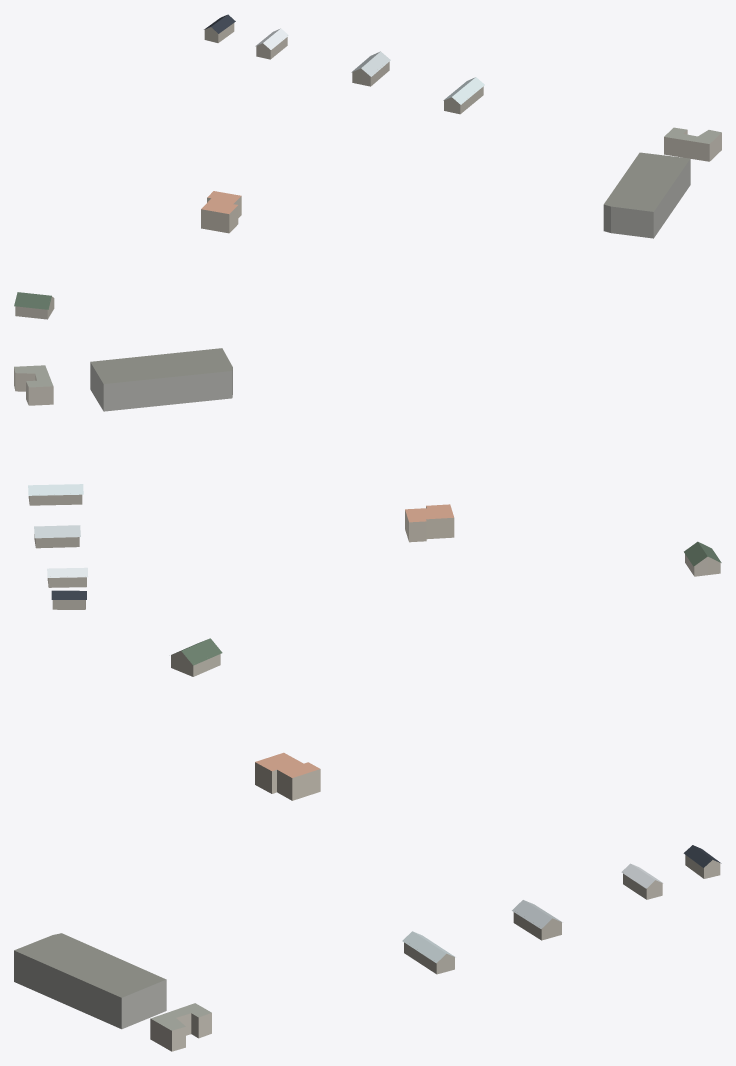
The picture shows the model from 3 angles, top to bottom: view 1: azimuth 30°, elevation 25°; view 2: azimuth 150°, elevation 25°; view 3: azimuth 270°, elevation 25°; orthographic projection. The views are drawn at different scales.
Parts seen in each view (by area): view 1: tuile; view 2: tuile; view 3: tuile.
Part boxes in pixels (x1,y1,x2,y2): tuile: (14, 14, 721, 319); tuile: (14, 348, 721, 609); tuile: (14, 638, 721, 1051).
Size of the model in its own units: 249 by 13.55 by 185.
